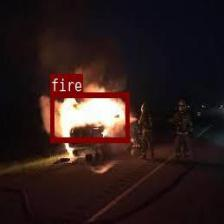fire: (50, 92, 128, 141)
